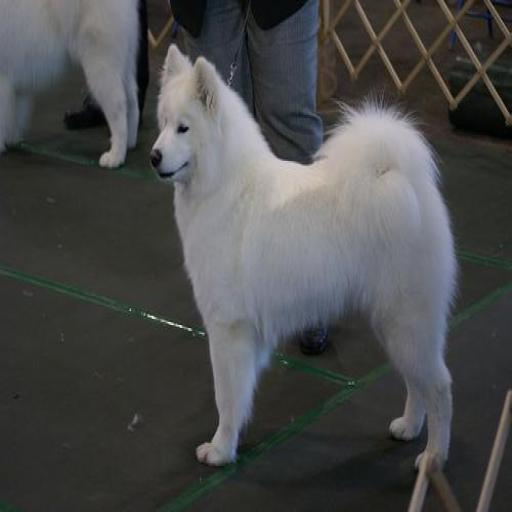dog_face: (148, 48, 217, 191)
